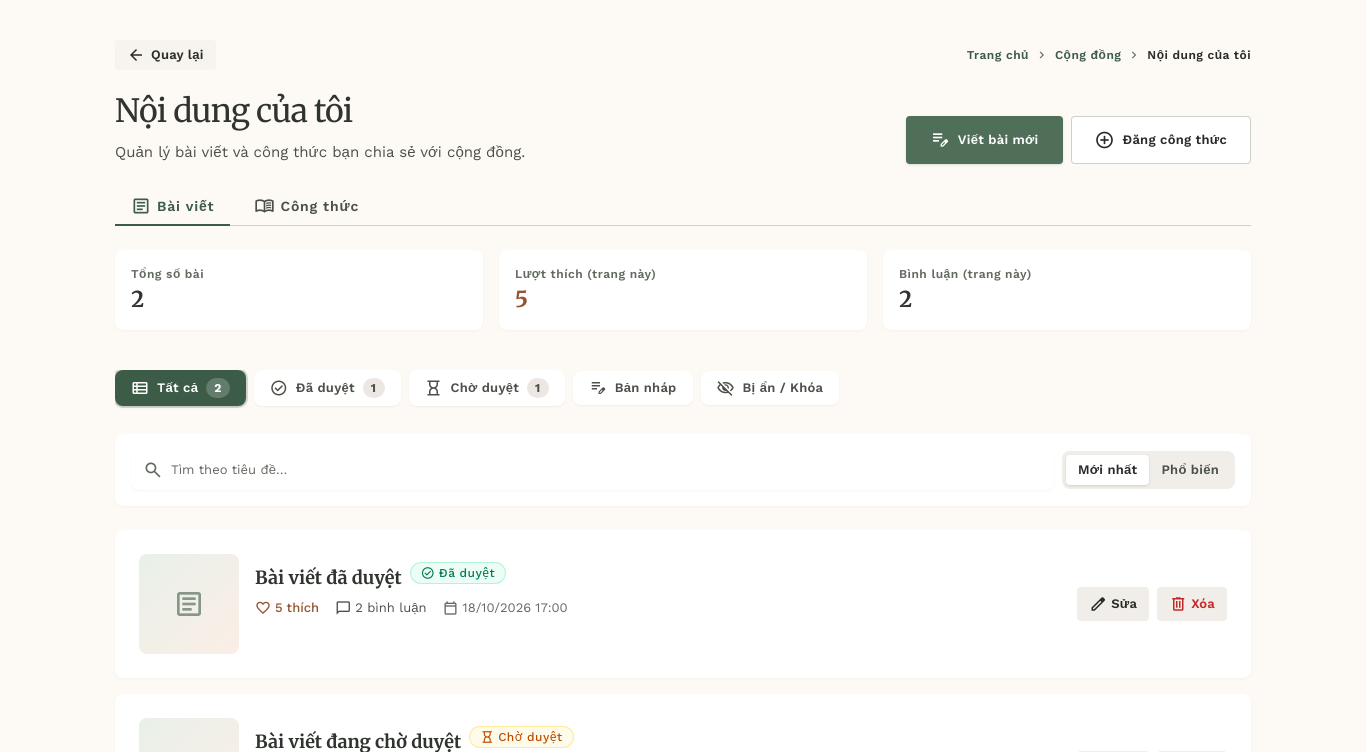
Test case: MyContent (Nội dung của tôi) › Thành viên › lọc bài viết theo từng tab trạng thái và hiển thị badge tương ứng
Expected: the button "Tất cả 2" is shown, [115,370,246,406]
Expected: the button "Đã duyệt 1" is shown, [254,370,400,406]
Click the button "Chờ duyệt 1".
click(487, 388)  # box [408,370,565,406]
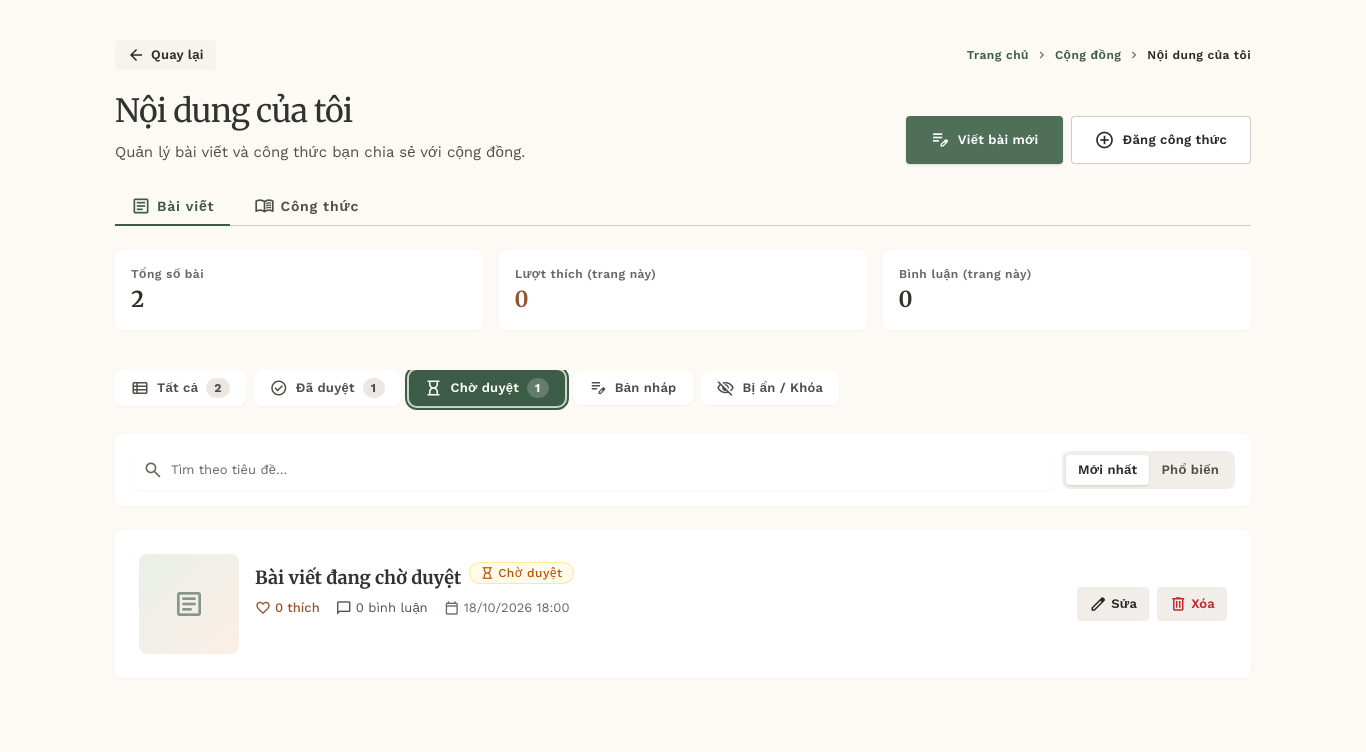
Expected: the link "Bài viết đang chờ duyệt" is shown, [255,566,461,589]
Expected: the link "Bài viết đã duyệt" is gone
